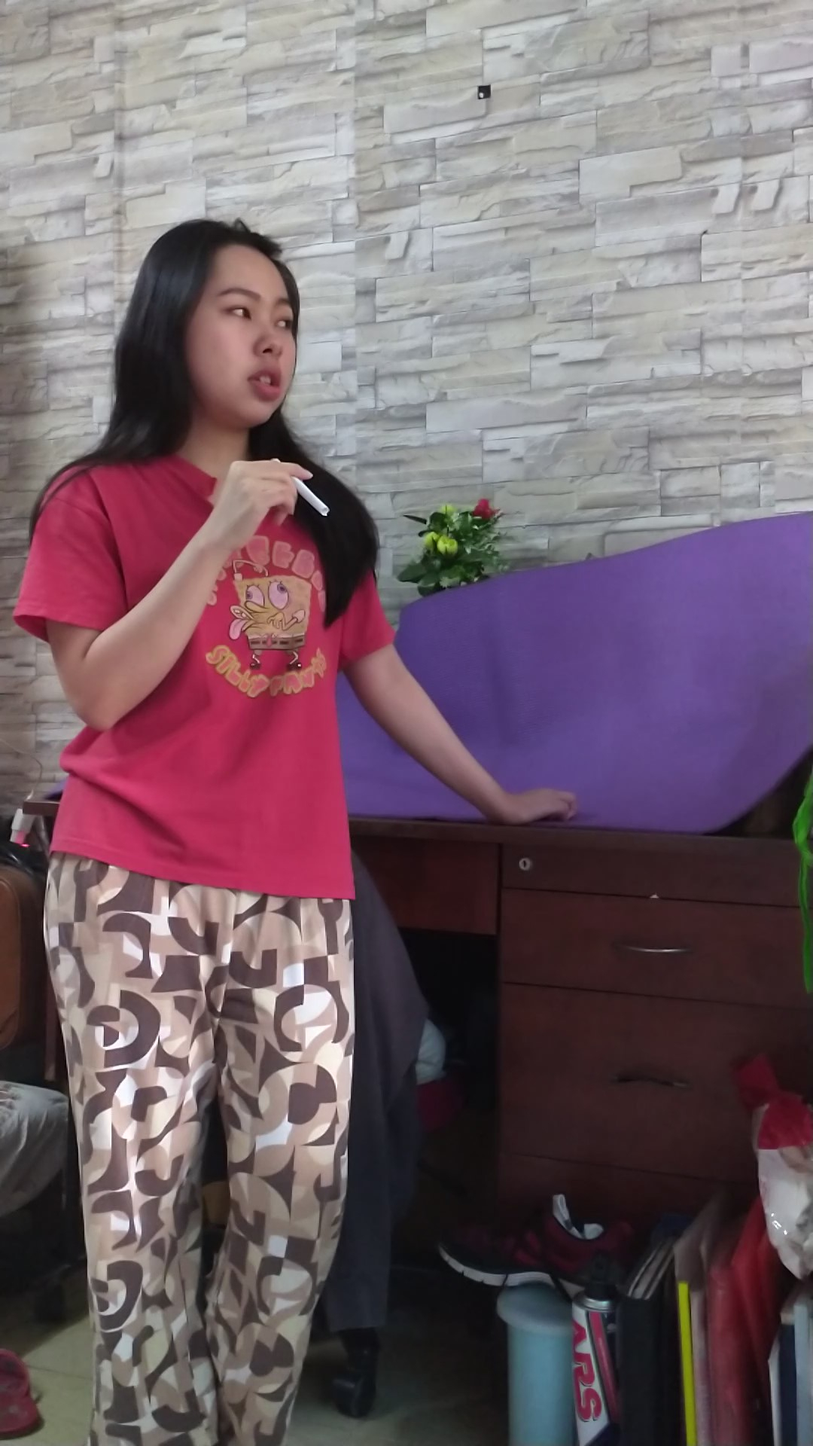cigarette: (287, 472, 339, 525)
person: (12, 195, 514, 1446)
